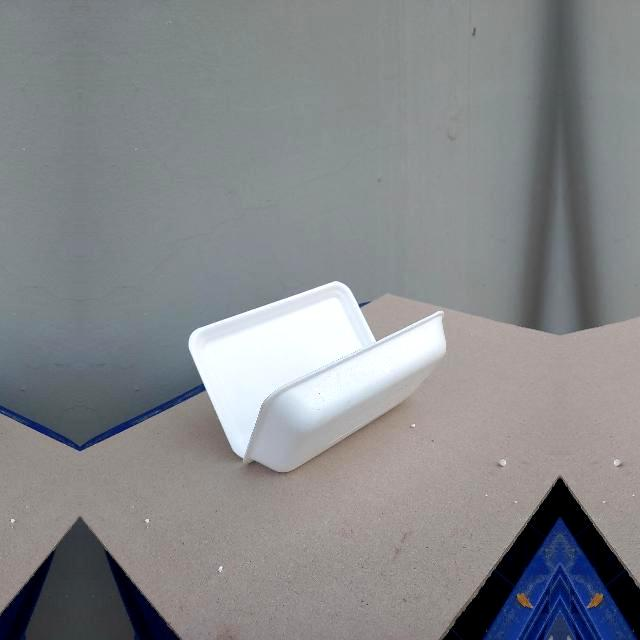Styrofoam: (188, 280, 446, 472), (188, 282, 446, 472)
